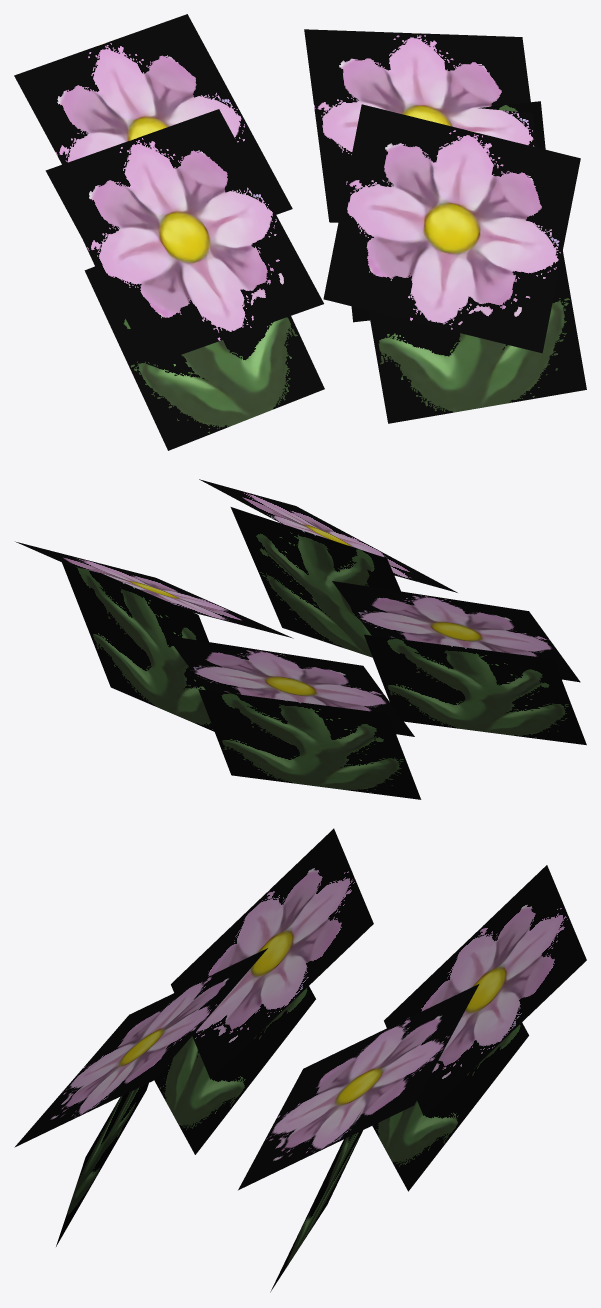
The model's file is Flower_001_HD.fbx.
The picture shows the model from 3 angles, top to bottom: view 1: azimuth 30°, elevation 25°; view 2: azimuth 150°, elevation 25°; view 3: azimuth 270°, elevation 25°; orthographic projection. The views are drawn at different scales.
Visible parts, largest first — view 1: It_019_Flower_001; view 2: It_019_Flower_001; view 3: It_019_Flower_001.
Part boxes in pixels (left/top/right/bottom): It_019_Flower_001: left=14, top=14, right=586, bottom=450; It_019_Flower_001: left=15, top=479, right=586, bottom=799; It_019_Flower_001: left=14, top=828, right=586, bottom=1292.
Bounding box in the file's own units: 0.9733 × 0.4398 × 0.9232.
